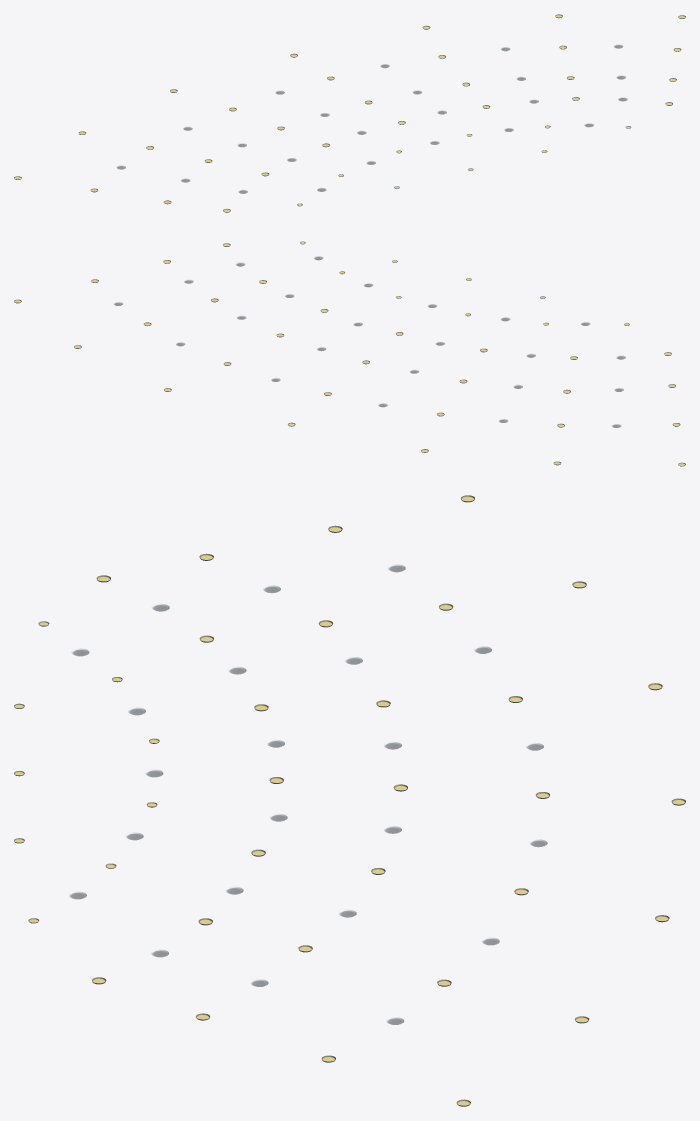
The model's file is ULT_Spotlights.FBX.
3 renders of one model, top to bottom at view 1: azimuth 30°, elevation 25°; view 2: azimuth 150°, elevation 25°; view 3: azimuth 270°, elevation 25°, orthographic. The views are drawn at different scales.
Visible parts, largest first — view 1: ULT_Spotlights; view 2: ULT_Spotlights; view 3: ULT_Spotlights.
Part boxes in pixels (x1,y1,x2,y2): ULT_Spotlights: [14, 14, 685, 212]; ULT_Spotlights: [14, 241, 685, 466]; ULT_Spotlights: [14, 495, 685, 1106].
Bounding box in the file's own units: 31742 × 718 × 14767.
